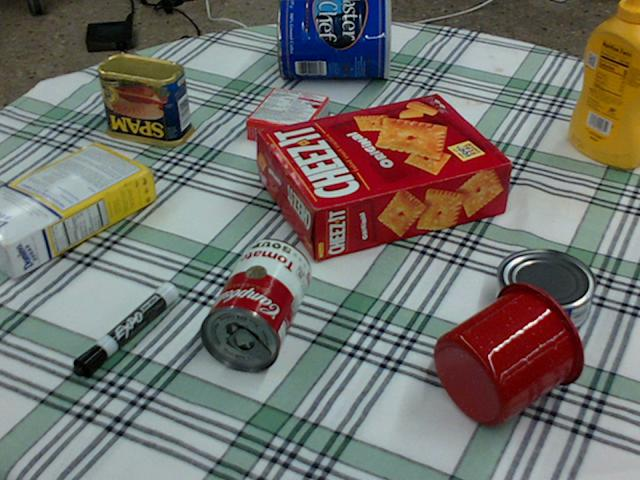cracker_box: (259, 93, 511, 260)
gelatin_box: (245, 85, 328, 150)
large_marker: (70, 282, 176, 378)
master_chef_can: (276, 0, 391, 79)
mug: (433, 279, 585, 426)
mustard_bottle: (567, 0, 639, 168)
potted_meat_can: (98, 53, 193, 146)
sugar_box: (0, 143, 152, 277)
tomato_soup_can: (199, 236, 311, 370)
tuna_fish_can: (496, 247, 597, 334)
